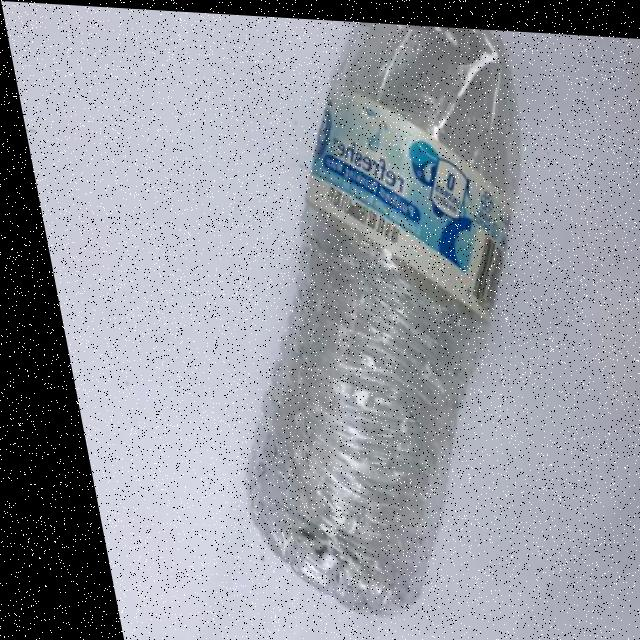plasticbottle: (138, 8, 616, 639)
